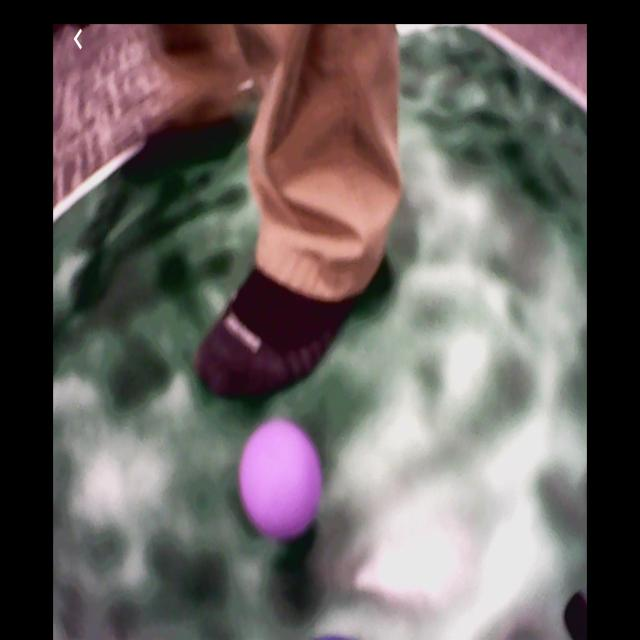ball: (238, 423, 321, 537)
